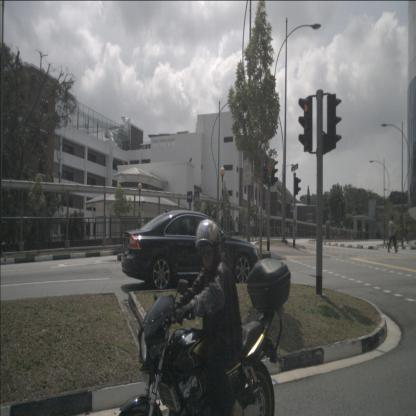human-pedestrian-adult: (387, 214, 398, 254)
vehicle-car: (121, 208, 260, 293)
vehicle-motorcycle: (118, 219, 291, 416)
